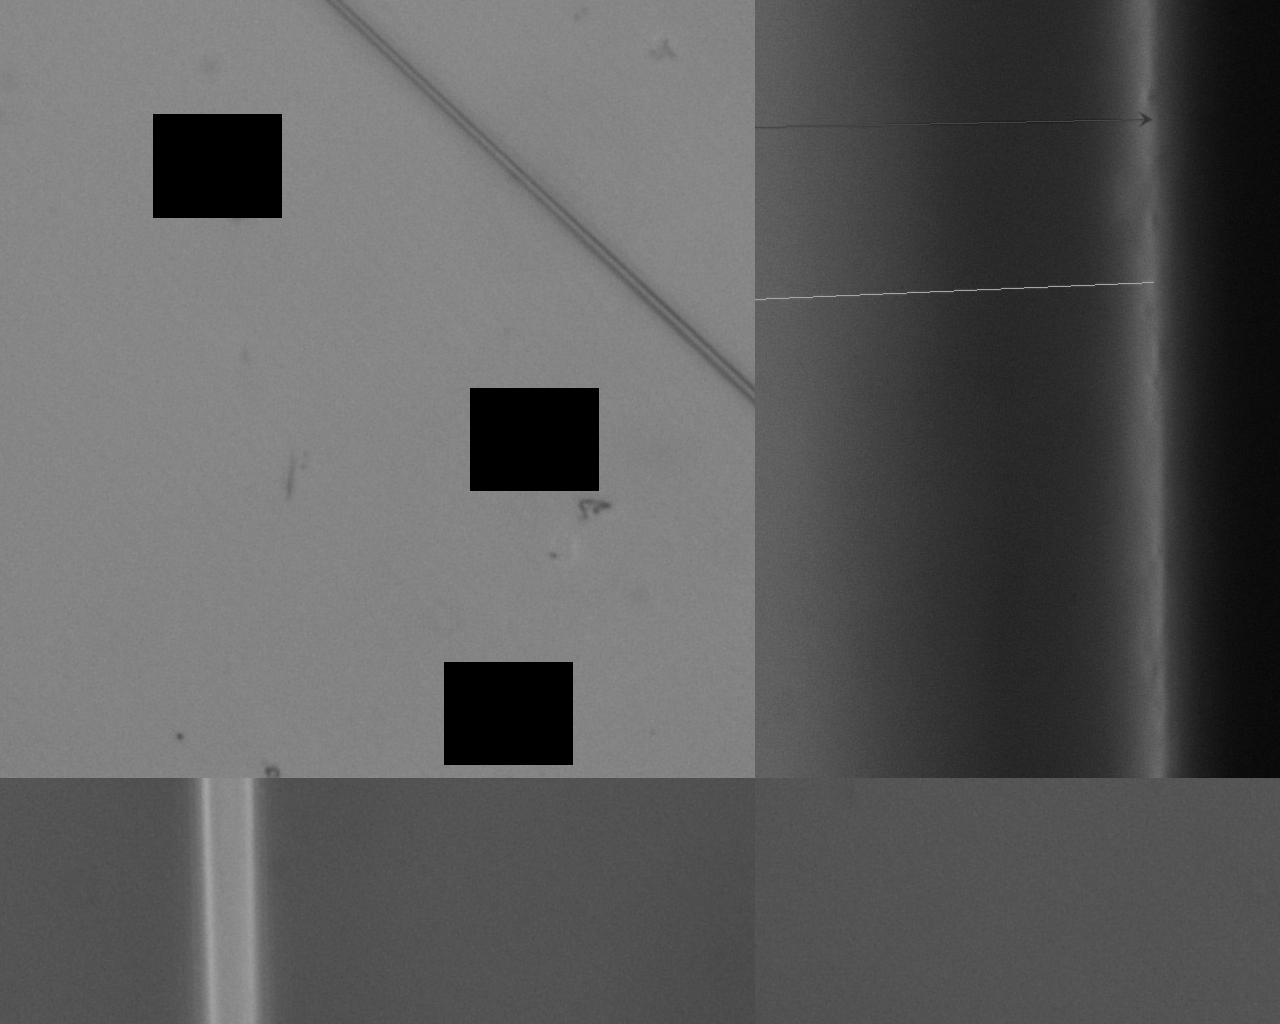fiber: (755, 0, 1161, 778), (321, 0, 755, 409), (196, 778, 260, 1024)
